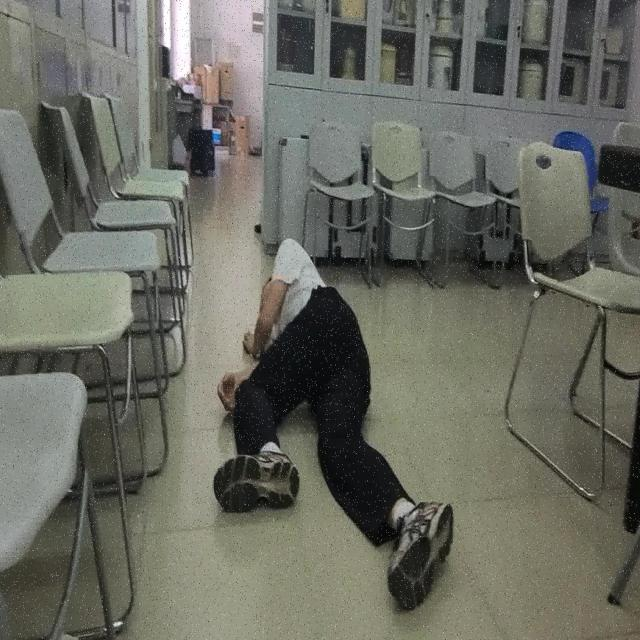fall: (215, 234, 456, 614)
